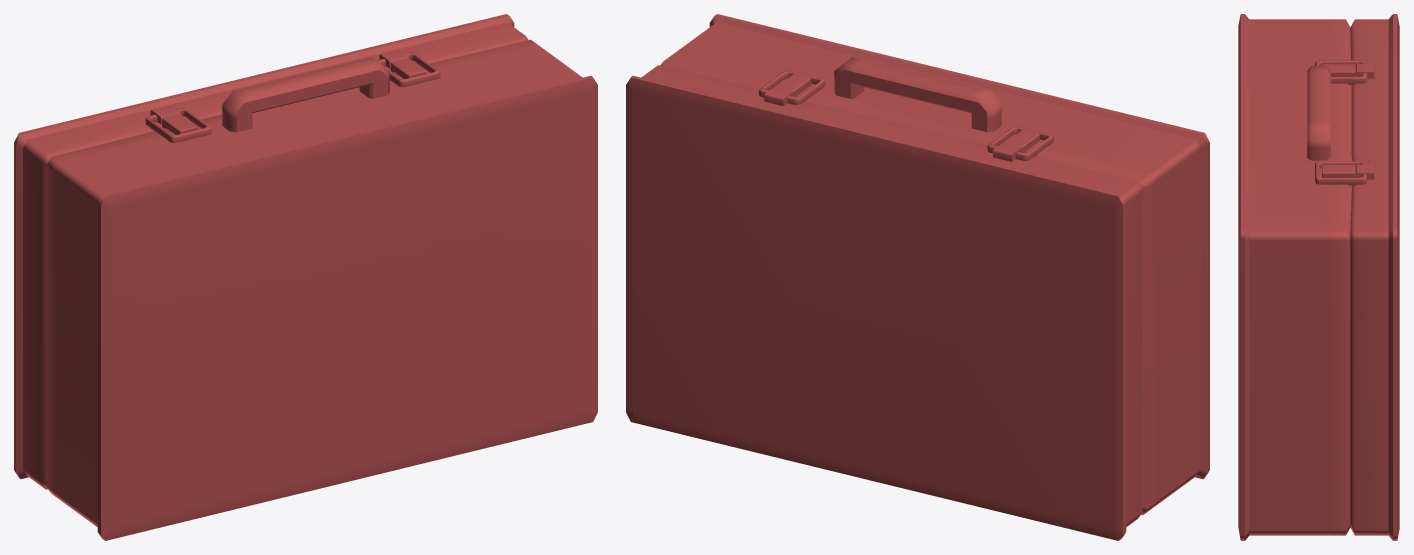
Rendered from luggage06.fbx.
The picture shows the model from 3 angles, left to right: view 1: azimuth 30°, elevation 25°; view 2: azimuth 150°, elevation 25°; view 3: azimuth 270°, elevation 25°; orthographic projection. The views are drawn at different scales.
Visible parts, largest first — view 1: Luggage03; view 2: Luggage03; view 3: Luggage03.
Part boxes in pixels (left/top/right/bottom): Luggage03: left=14, top=14, right=597, bottom=540; Luggage03: left=626, top=14, right=1209, bottom=540; Luggage03: left=1238, top=14, right=1399, bottom=540.
Size of the model in its own units: 60.57 by 43.31 by 18.8.
